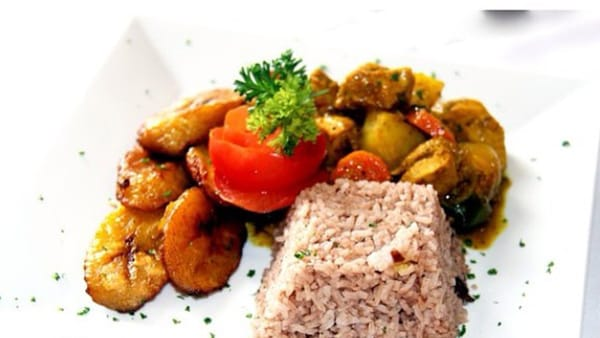curry: (233, 47, 320, 153)
